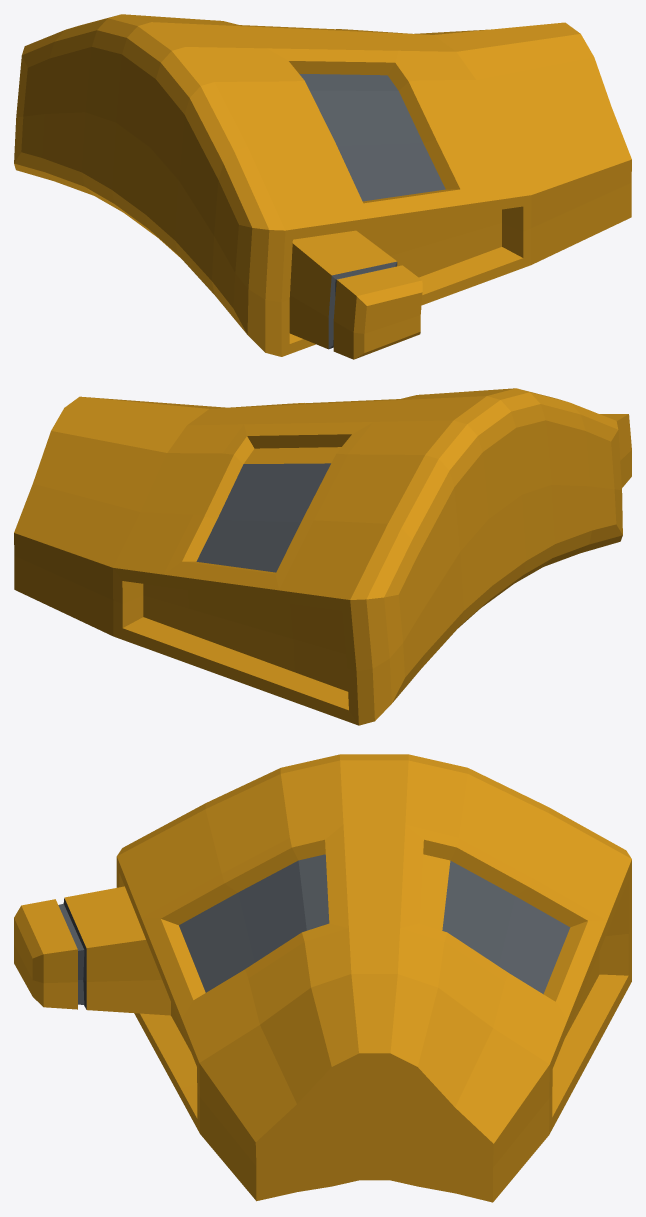
File: Fighter_05_Side_Mount_Left_Yellow.fbx
3 renders of one model, top to bottom at view 1: azimuth 30°, elevation 25°; view 2: azimuth 150°, elevation 25°; view 3: azimuth 270°, elevation 25°, orthographic. The views are drawn at different scales.
Parts seen in each view (by area): view 1: Fighter_05_Side_Mount_Left_Yellow; view 2: Fighter_05_Side_Mount_Left_Yellow; view 3: Fighter_05_Side_Mount_Left_Yellow.
Boxes of the visible parts, bbox=[...] form: Fighter_05_Side_Mount_Left_Yellow: bbox=[14, 14, 631, 359]; Fighter_05_Side_Mount_Left_Yellow: bbox=[14, 388, 631, 725]; Fighter_05_Side_Mount_Left_Yellow: bbox=[14, 754, 631, 1202].
Size of the model in its own units: 402 by 206 by 477.
2 materials, 2 textured.
